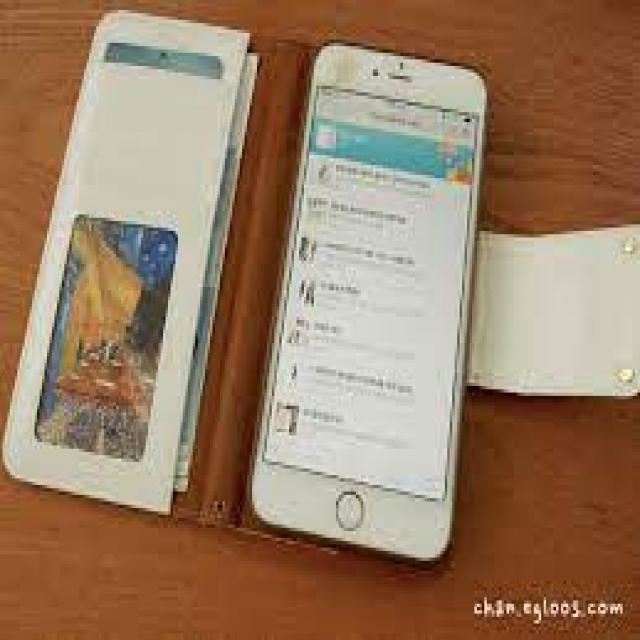Phone: (248, 40, 487, 556)
